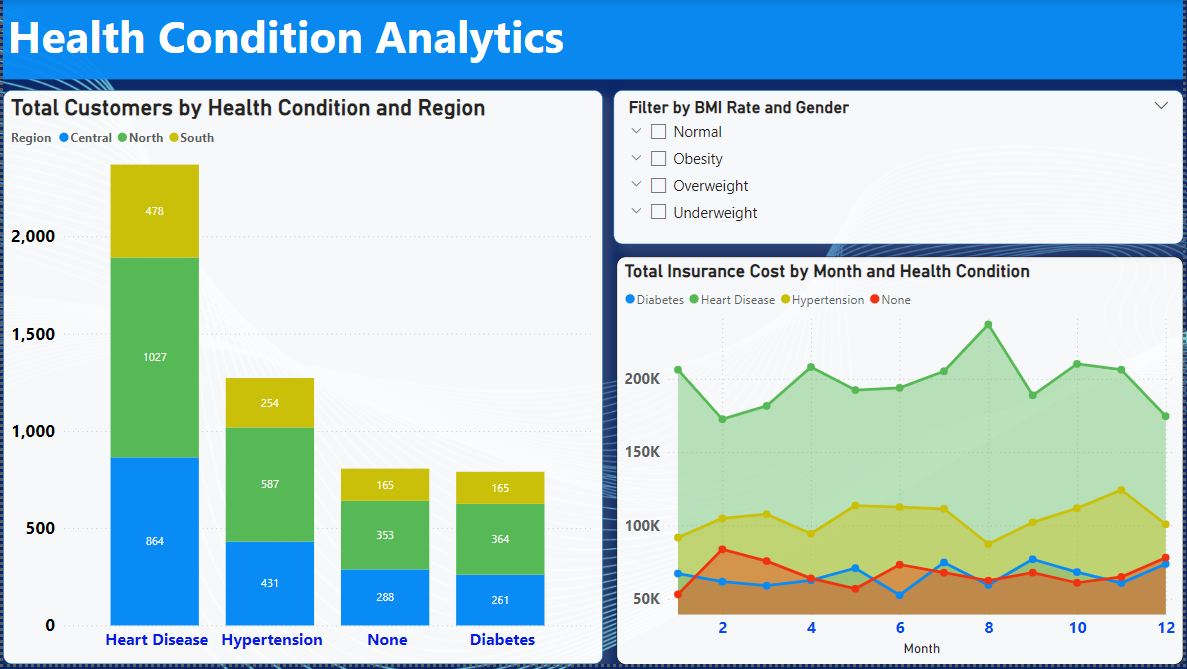

Layout of this report page (visuals, bound fields, positions):
{"tool":"powerbi","page":{"name":"Health Condition","canvas":[1280,720],"ordinal":3},"visuals":[{"type":"textbox","box":[0,0,1280.1,86.2],"z":0},{"type":"columnChart","title":"Total Customers by Health Condition and Region","fields":{"Category":["insurance_data_5237 (2).Health Condition"],"Series":["insurance_data_5237 (2).Region"],"Y":["CountNonNull(insurance_data_5237 (2).Customer ID)"]},"box":[0,97.6,650.6,623],"z":1000},{"type":"areaChart","title":"Total Insurance Cost by Month and Health Condition","fields":{"Category":["insurance_data_5237 (2).Month"],"Y":["Sum(insurance_data_5237 (2).Insurance Cost)"],"Series":["insurance_data_5237 (2).Health Condition"]},"box":[665.3,278.1,614.8,442.4],"z":2000},{"type":"slicer","fields":{"Values":["insurance_data_5237 (2).BMI Rate","insurance_data_5237 (2).Gender"]},"box":[662,97.6,618.1,167.5],"z":3000}]}

Visuals, with their boxes in screenshot pixels (x1, y1, x2, y2), scaled from the page's 1280x720 canvas onto the 1187x669 screenshot:
textbox: x1=0, y1=0, x2=1186, y2=80
"Total Customers by Health Condition and Region" columnChart: x1=0, y1=91, x2=603, y2=668
"Total Insurance Cost by Month and Health Condition" areaChart: x1=617, y1=258, x2=1186, y2=668
slicer - insurance_data_5237 (2).BMI Rate x insurance_data_5237 (2).Gender: x1=614, y1=91, x2=1186, y2=246
